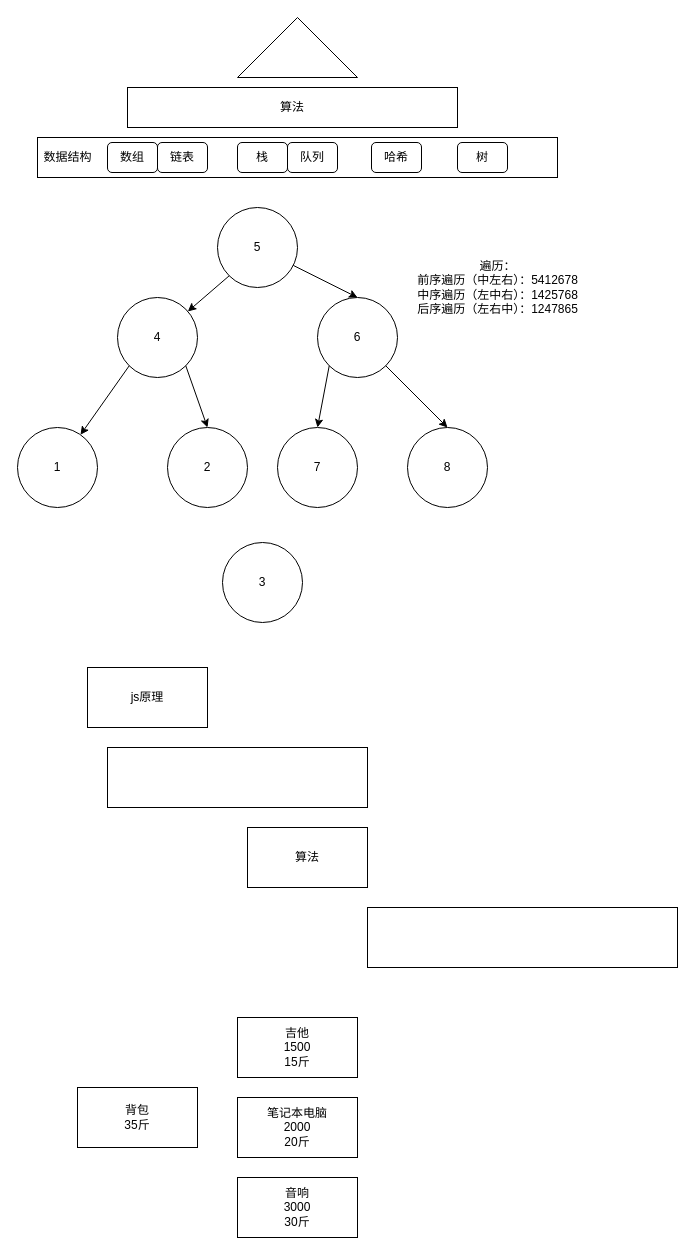
Image size: 695x1255. Some labels were removed from this diagram. Each missing label, with the box of its shape:
nodejs开发: (106, 746, 368, 808)
功能: (236, 16, 358, 78)
设计模式: (366, 906, 678, 968)
